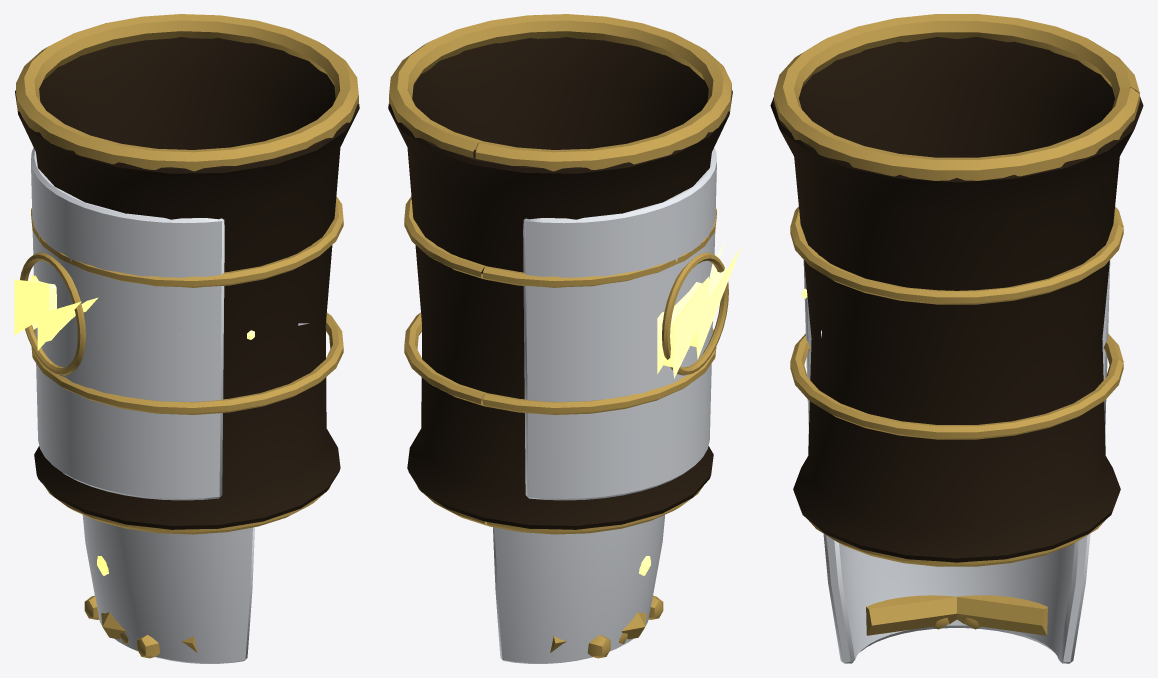
The model's file is esc_last_arrow_gloves_R.glb.
3 views of the same model, side by side, from view 1: azimuth 30°, elevation 25°; view 2: azimuth 150°, elevation 25°; view 3: azimuth 270°, elevation 25° (orthographic). The views are drawn at different scales.
Visible parts, largest first — view 1: esc_last_arrow_gloves, AT_hand_R; view 2: esc_last_arrow_gloves, AT_hand_R; view 3: esc_last_arrow_gloves, AT_hand_R.
Part boxes in pixels (x1,y1,x2,y2): esc_last_arrow_gloves: (14, 14, 359, 534); AT_hand_R: (82, 515, 254, 663); esc_last_arrow_gloves: (388, 14, 741, 534); AT_hand_R: (493, 515, 664, 663); esc_last_arrow_gloves: (770, 14, 1143, 566); AT_hand_R: (823, 534, 1090, 663).
Size of the model in its own units: 0.1971 by 0.3408 by 0.2004.
